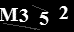2: (58, 5, 68, 20)
3: (18, 9, 28, 22)
5: (38, 11, 49, 26)
M: (1, 7, 18, 21)
